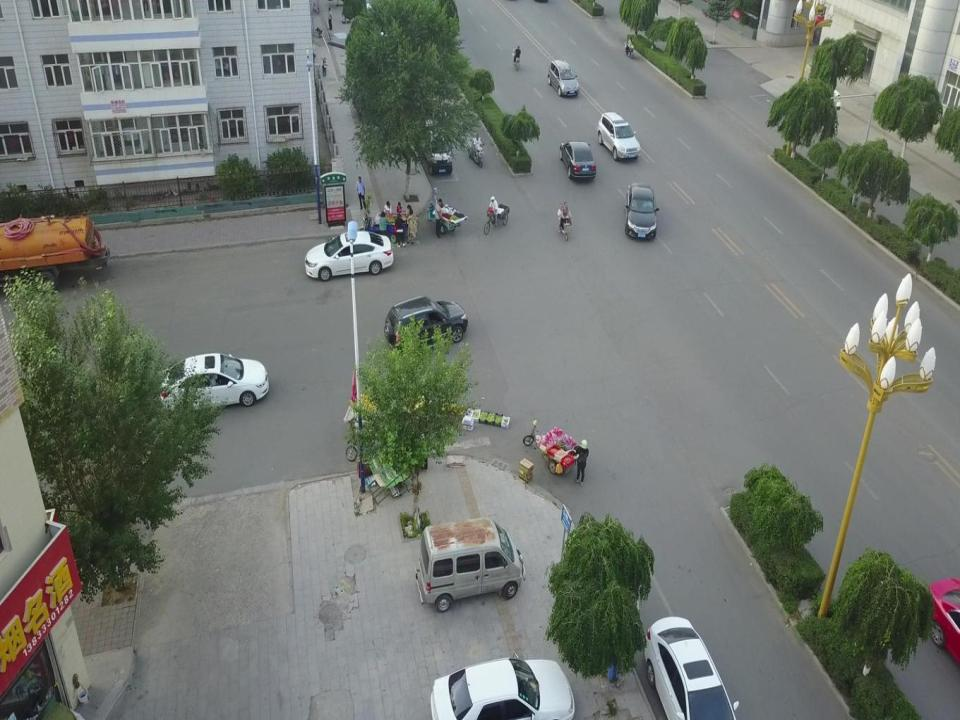car: (645, 616, 739, 719), (430, 653, 574, 720), (159, 352, 269, 418), (384, 295, 468, 355), (305, 230, 394, 280), (598, 112, 641, 161), (624, 182, 659, 239), (559, 140, 597, 180), (548, 58, 579, 96)
van: (413, 516, 525, 612), (423, 120, 452, 175)
